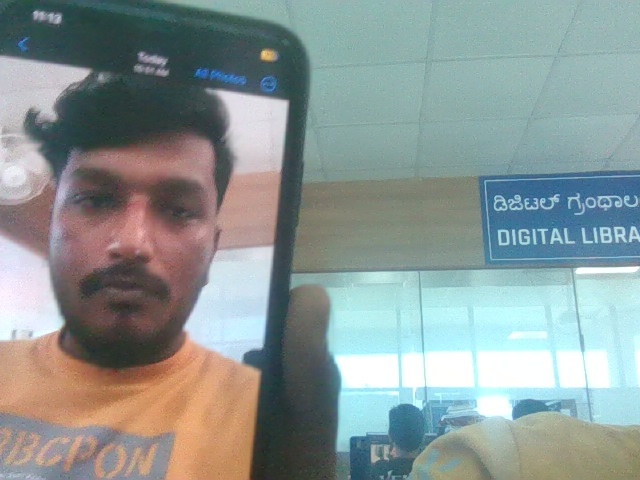fake: (22, 42, 257, 375)
